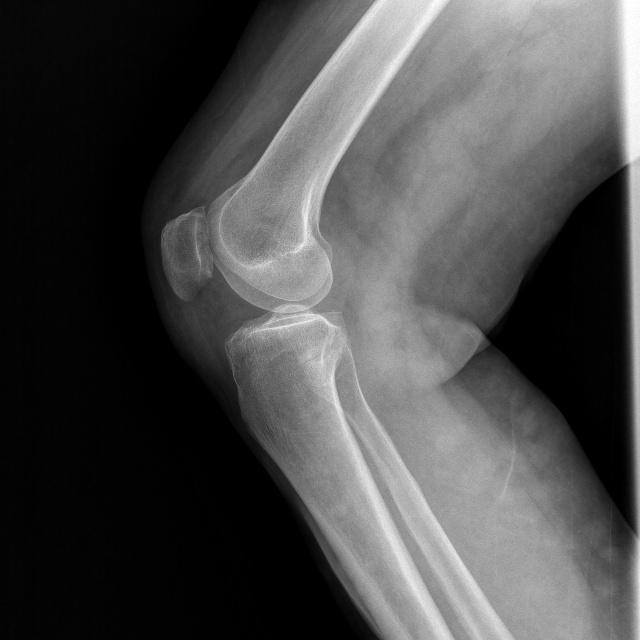Knee: (157, 203, 345, 394)
